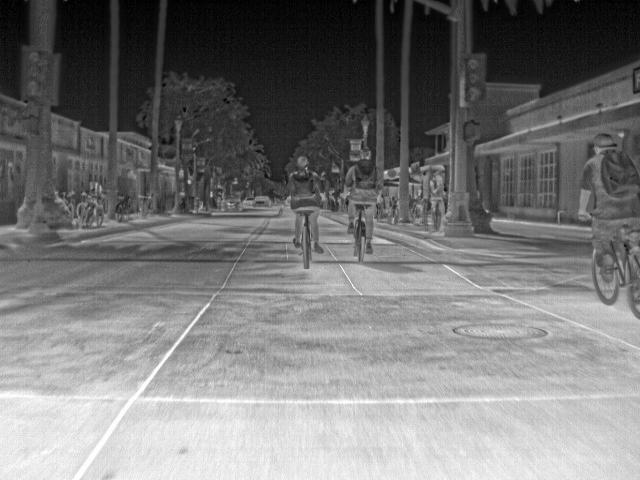car: (251, 195, 271, 207), (242, 194, 256, 208)
person: (574, 132, 637, 284), (343, 146, 384, 256), (286, 153, 324, 253), (428, 168, 446, 233), (413, 186, 425, 204)
